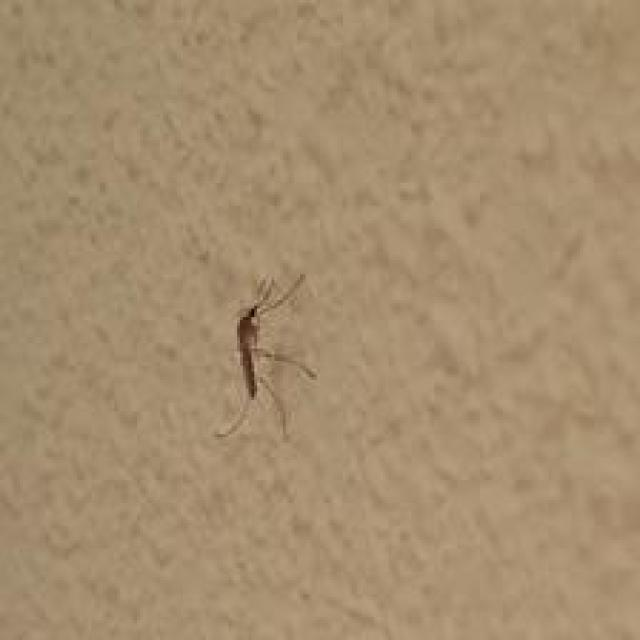Culex: (213, 270, 318, 441)
